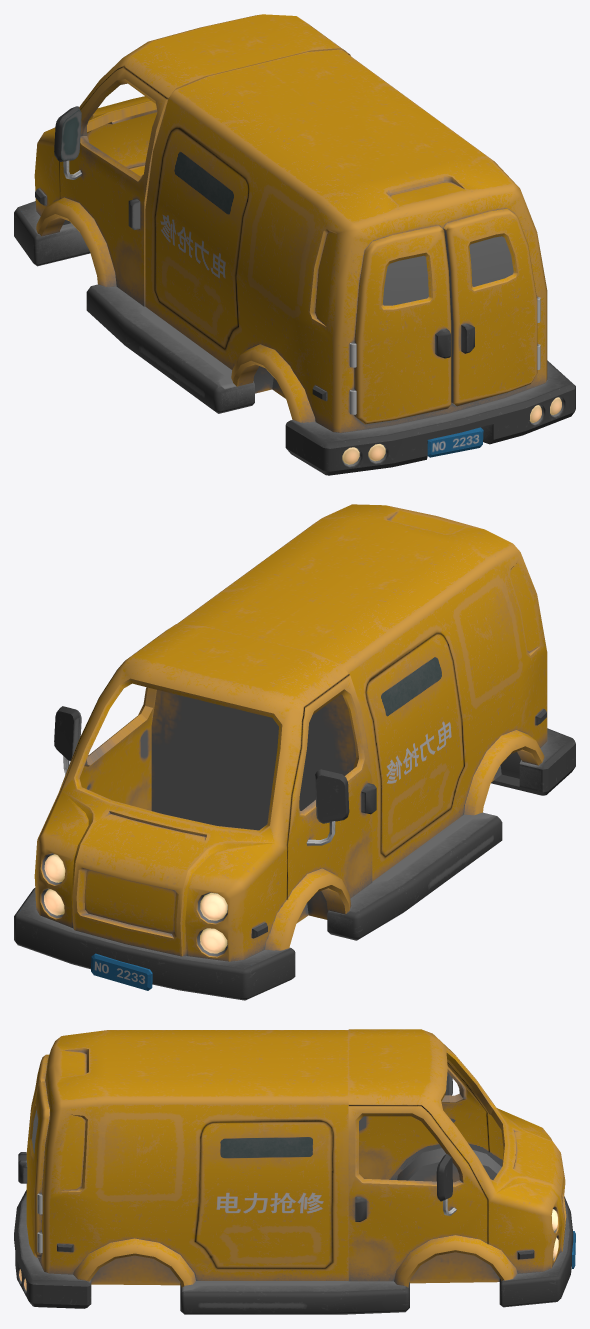
File: Car_1_Base.fbx
3 views of the same model, one above another, from view 1: azimuth 30°, elevation 25°; view 2: azimuth 150°, elevation 25°; view 3: azimuth 270°, elevation 25° (orthographic). The views are drawn at different scales.
Parts seen in each view (by area): view 1: Mat_Car_01; view 2: Mat_Car_01; view 3: Mat_Car_01.
Boxes of the visible parts, x1,y1,x2,y2 form: Mat_Car_01: (14, 14, 575, 475); Mat_Car_01: (14, 504, 575, 1000); Mat_Car_01: (14, 1029, 575, 1314).
Bounding box in the file's own units: 2.74 × 2.21 × 5.56.
Materials: 1 (1 with a texture image).
